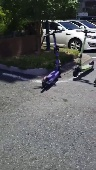beam: (39, 29, 69, 91)
gcooter: (72, 28, 96, 78)
